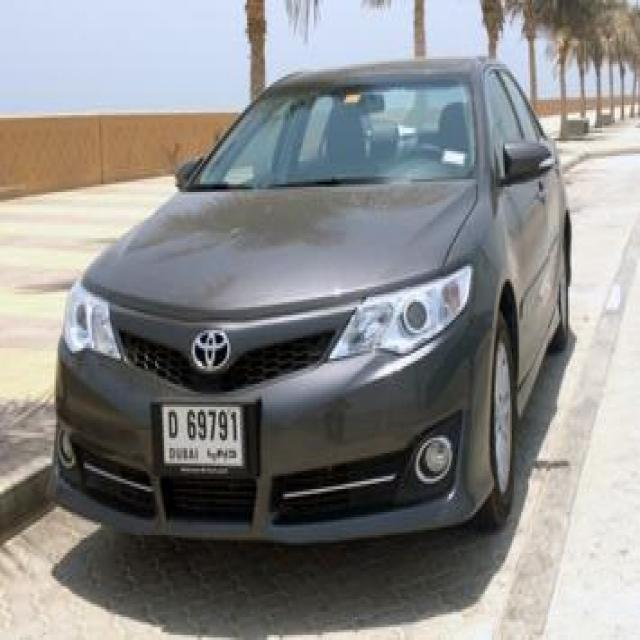Car: (86, 16, 594, 568)
